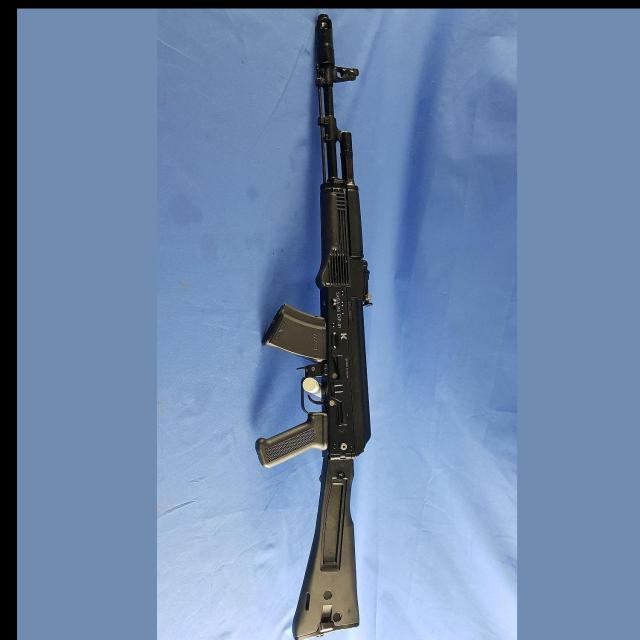weapon: (252, 13, 376, 640)
